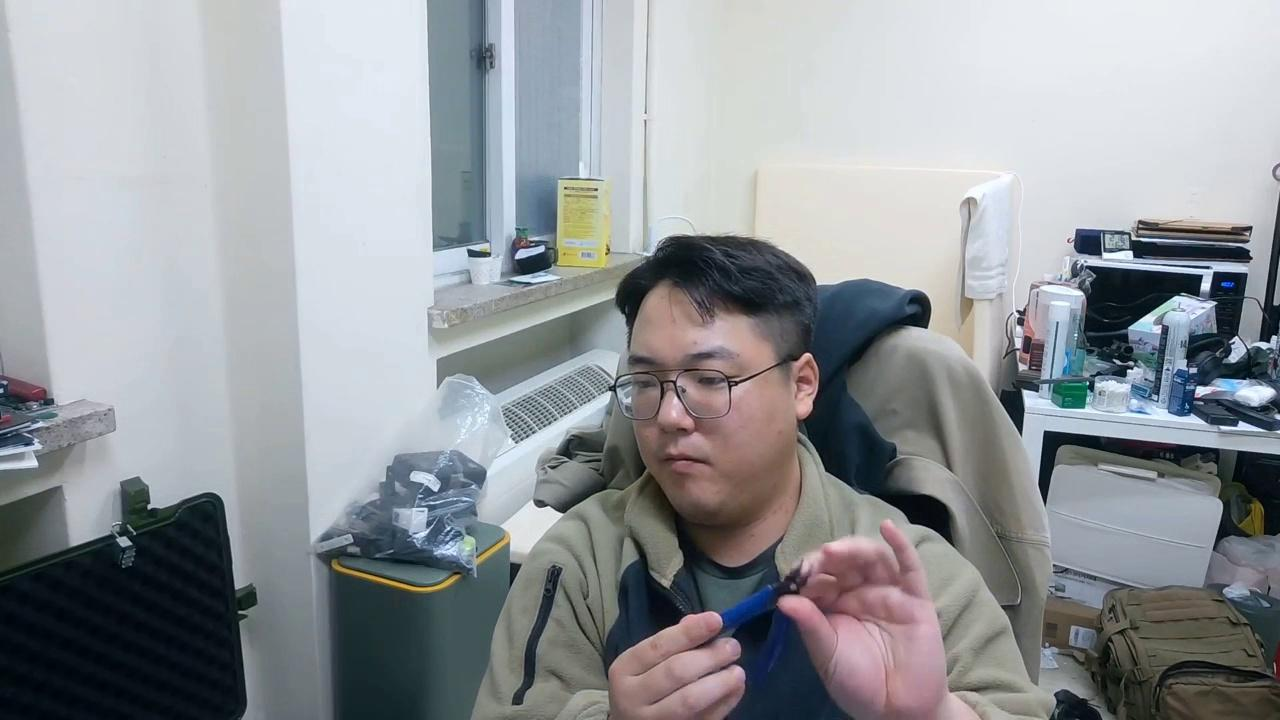blue_pliers: (468, 232, 1058, 719)
